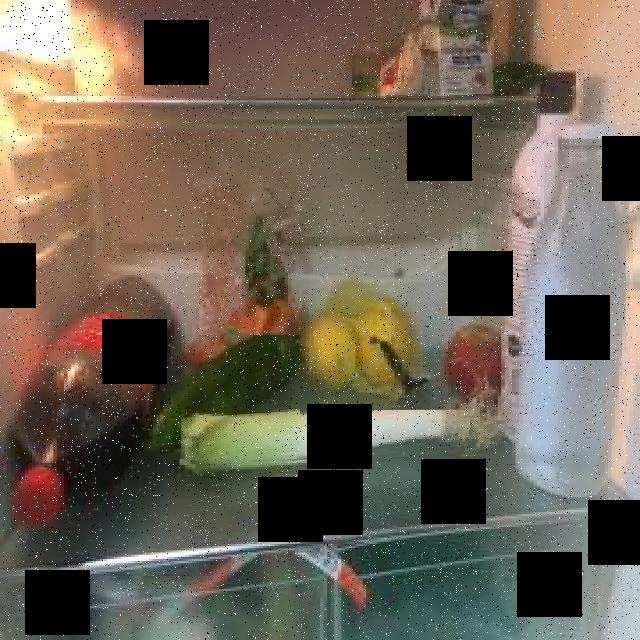apple: (448, 322, 501, 399)
bell_pepper: (144, 335, 300, 461)
garlic: (380, 31, 434, 99)
heavy_cream: (426, 0, 494, 100)
leek: (179, 410, 482, 465)
lemon: (310, 319, 356, 387)
